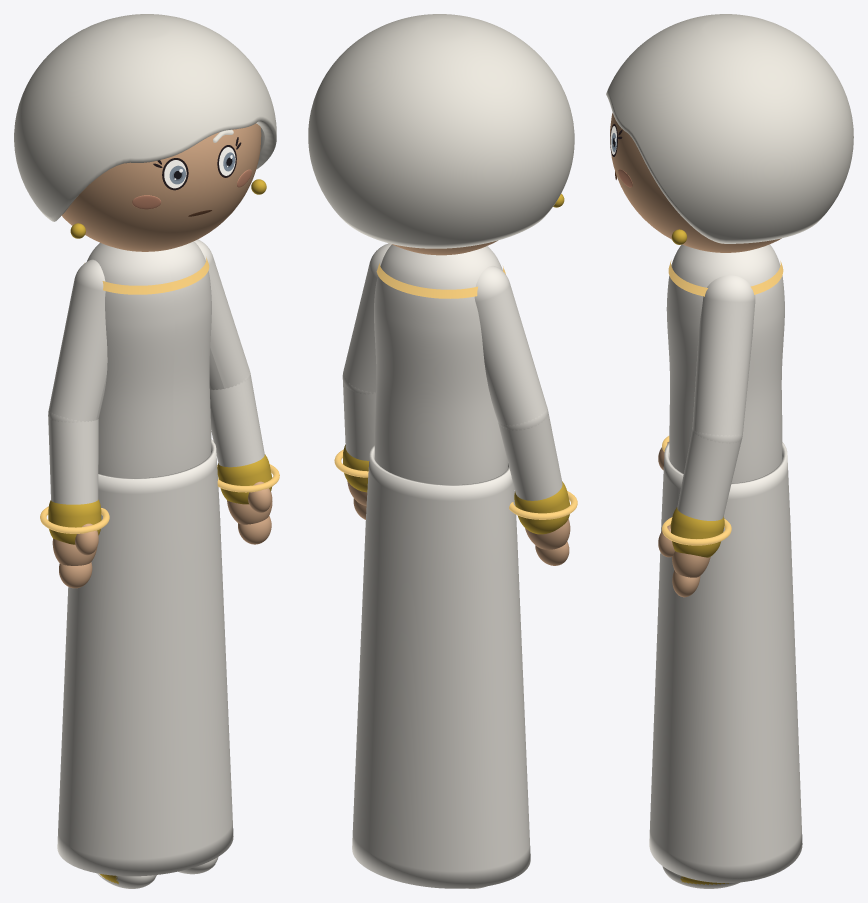
File: toekomstvrouw.glb
3 renders of one model, left to right at view 1: azimuth 30°, elevation 25°; view 2: azimuth 150°, elevation 25°; view 3: azimuth 270°, elevation 25°, orthographic.
Visible parts, largest first — view 1: toekomstvrouw_rok, toekomstvrouw_haar, toekomstvrouw_romp, toekomstvrouw_hoofd, toekomstvrouw_bovenarm_R, toekomstvrouw_onderarm_R, toekomstvrouw_onderarm_L, toekomstvrouw_bovenarm_L, toekomstvrouw_manchet_R, toekomstvrouw_manchet_L, toekomstvrouw_gloei_band1, toekomstvrouw_hand_R (+5 smaller); view 2: toekomstvrouw_rok, toekomstvrouw_haar, toekomstvrouw_romp, toekomstvrouw_bovenarm_R, toekomstvrouw_onderarm_R, toekomstvrouw_bovenarm_L, toekomstvrouw_onderarm_L, toekomstvrouw_manchet_R, toekomstvrouw_gloei_band1, toekomstvrouw_hand_R, toekomstvrouw_manchet_L, toekomstvrouw_gloei_manchet_R (+1 smaller); view 3: toekomstvrouw_rok, toekomstvrouw_haar, toekomstvrouw_romp, toekomstvrouw_bovenarm_L, toekomstvrouw_hoofd, toekomstvrouw_onderarm_L, toekomstvrouw_manchet_L, toekomstvrouw_gloei_band1, toekomstvrouw_hand_L, toekomstvrouw_gloei_manchet_L, toekomstvrouw_vingers_L.
Part boxes in pixels (<box>): toekomstvrouw_rok: <box>57,439,233,876</box>; toekomstvrouw_haar: <box>14,14,276,221</box>; toekomstvrouw_romp: <box>87,241,211,478</box>; toekomstvrouw_hoofd: <box>61,123,261,251</box>; toekomstvrouw_bovenarm_R: <box>48,259,107,422</box>; toekomstvrouw_onderarm_R: <box>48,410,98,504</box>; toekomstvrouw_onderarm_L: <box>210,375,264,467</box>; toekomstvrouw_bovenarm_L: <box>194,239,249,389</box>; toekomstvrouw_manchet_R: <box>48,499,101,544</box>; toekomstvrouw_manchet_L: <box>217,454,272,504</box>; toekomstvrouw_gloei_band1: <box>84,257,209,294</box>; toekomstvrouw_hand_R: <box>52,538,97,565</box>; toekomstvrouw_rok: <box>352,445,530,888</box>; toekomstvrouw_haar: <box>308,14,574,248</box>; toekomstvrouw_romp: <box>374,244,507,484</box>; toekomstvrouw_bovenarm_R: <box>474,266,547,430</box>; toekomstvrouw_onderarm_R: <box>498,410,562,500</box>; toekomstvrouw_bovenarm_L: <box>343,243,391,392</box>; toekomstvrouw_onderarm_L: <box>342,378,375,460</box>; toekomstvrouw_manchet_R: <box>514,481,569,534</box>; toekomstvrouw_gloei_band1: <box>376,263,505,298</box>; toekomstvrouw_hand_R: <box>525,519,570,549</box>; toekomstvrouw_manchet_L: <box>343,444,369,492</box>; toekomstvrouw_gloei_manchet_R: <box>509,491,577,519</box>; toekomstvrouw_rok: <box>649,442,802,882</box>; toekomstvrouw_haar: <box>606,14,853,243</box>; toekomstvrouw_romp: <box>666,244,784,483</box>; toekomstvrouw_bovenarm_L: <box>692,275,755,442</box>; toekomstvrouw_hoofd: <box>610,113,781,252</box>; toekomstvrouw_onderarm_L: <box>677,429,741,520</box>; toekomstvrouw_manchet_L: <box>670,507,724,557</box>; toekomstvrouw_gloei_band1: <box>668,260,783,296</box>; toekomstvrouw_hand_L: <box>672,551,710,577</box>; toekomstvrouw_gloei_manchet_L: <box>662,517,731,545</box>; toekomstvrouw_vingers_L: <box>672,570,700,597</box>.
Size of the model in its own units: 0.579 by 2.02 by 0.5379.
